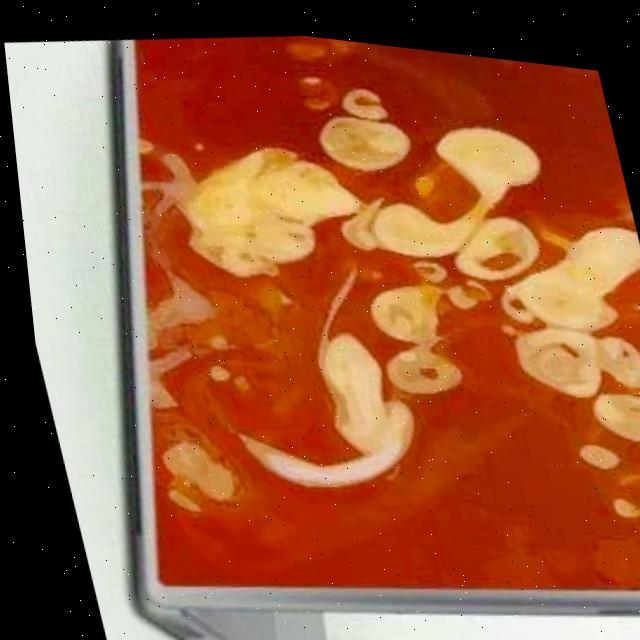laptop: (13, 1, 640, 640)
